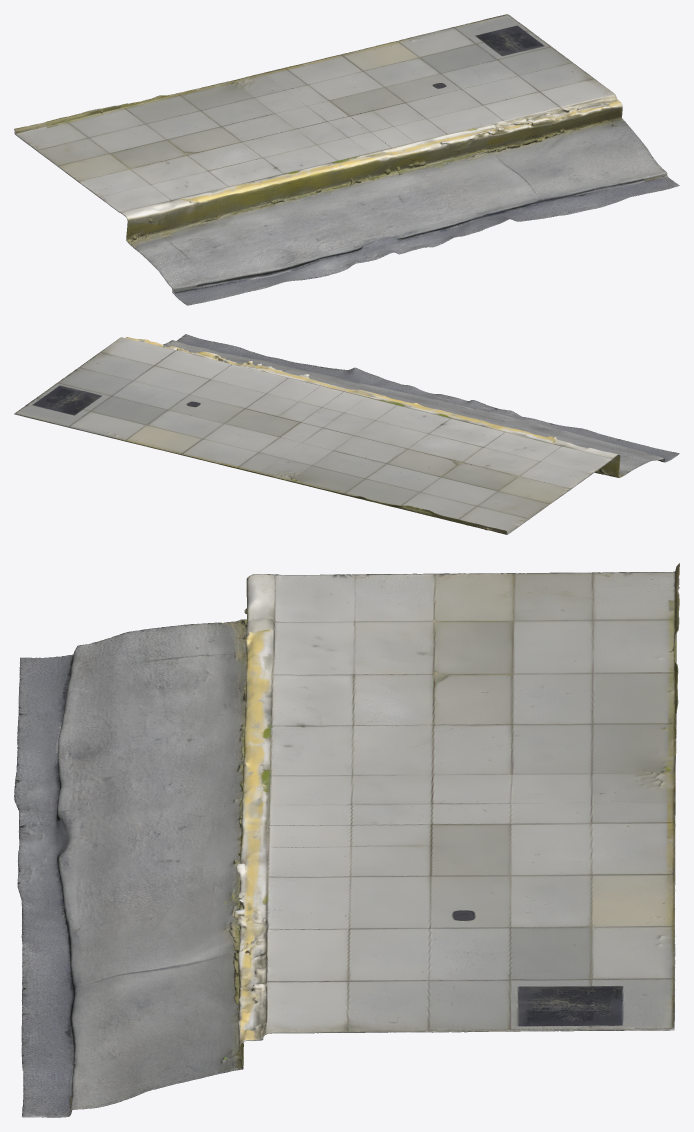
The model's file is Meshy_AI_Yellow_curb_beside_th_0521183948_texture.glb.
The picture shows the model from 3 angles, top to bottom: view 1: azimuth 30°, elevation 25°; view 2: azimuth 150°, elevation 25°; view 3: azimuth 270°, elevation 25°; orthographic projection. The views are drawn at different scales.
Size of the model in its own units: 1.9 by 0.1978 by 1.17.
1 material, 1 textured.
